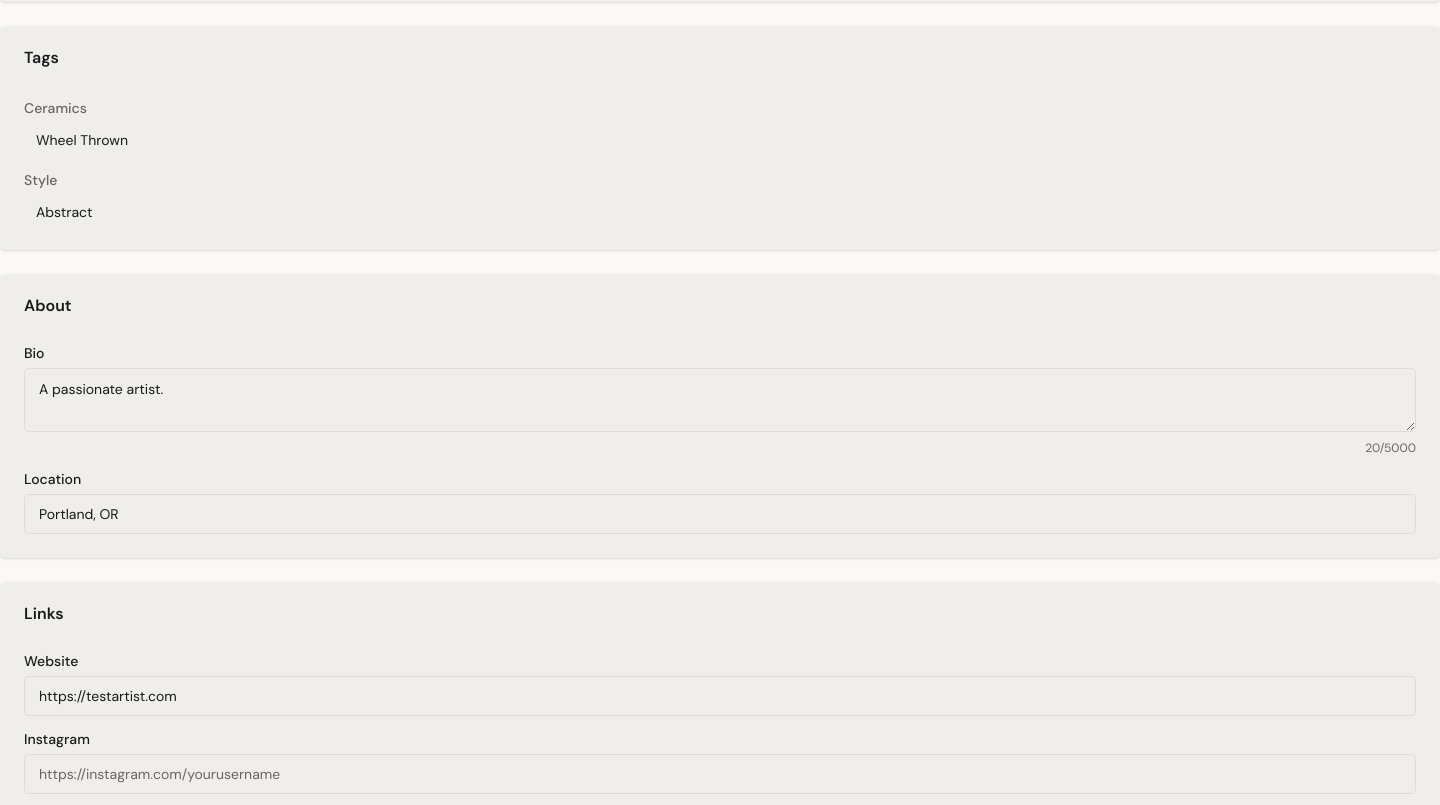
it: ProfileForm › submission › should show error message on API failure
(page scrolled)
Replace the text in the text box with test id "profile-bio" with "Updated bio" at (720, 400), box [24,368,1416,432]
(page scrolled)
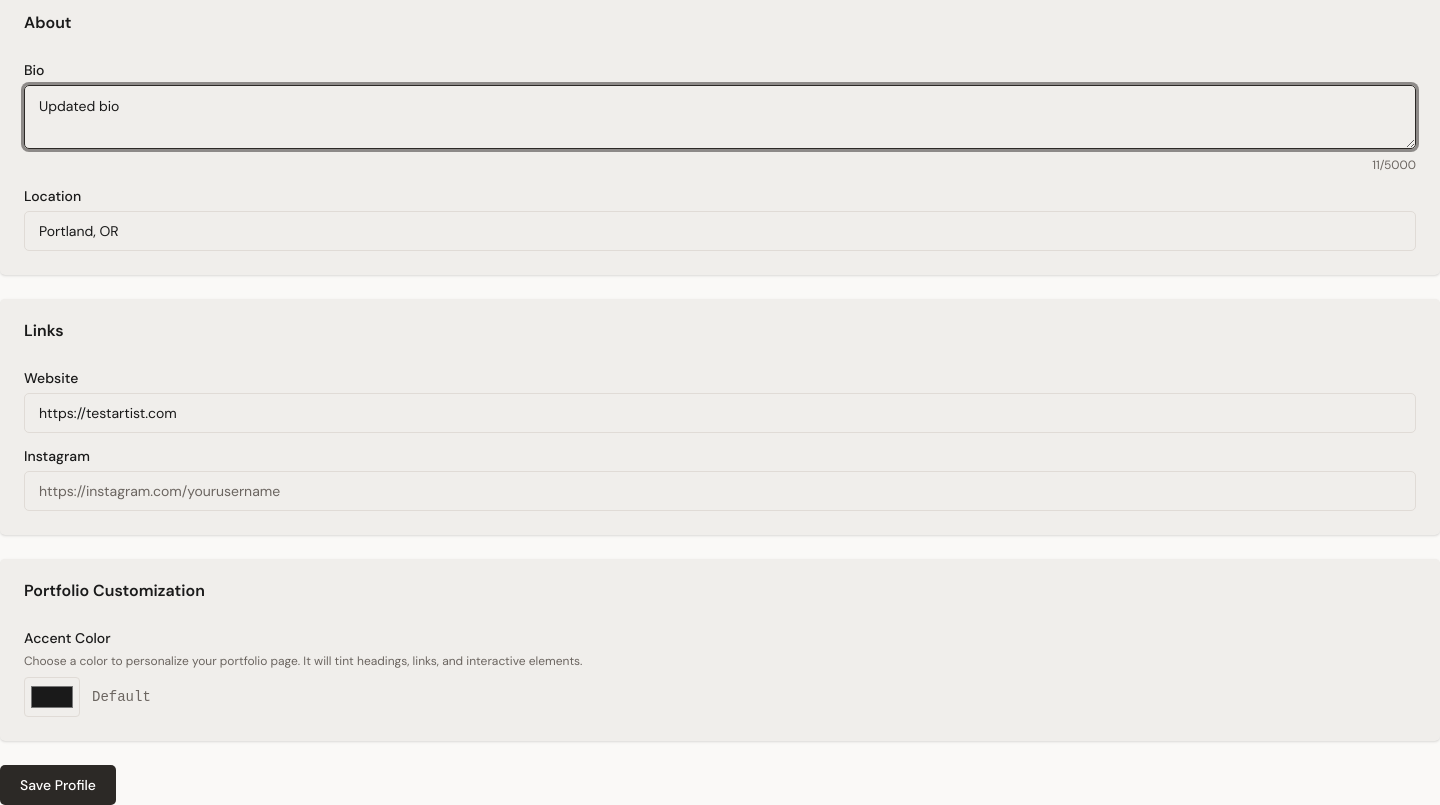
Click the button with test id "profile-save" at (58, 785), box [0,765,116,804]
(page scrolled)
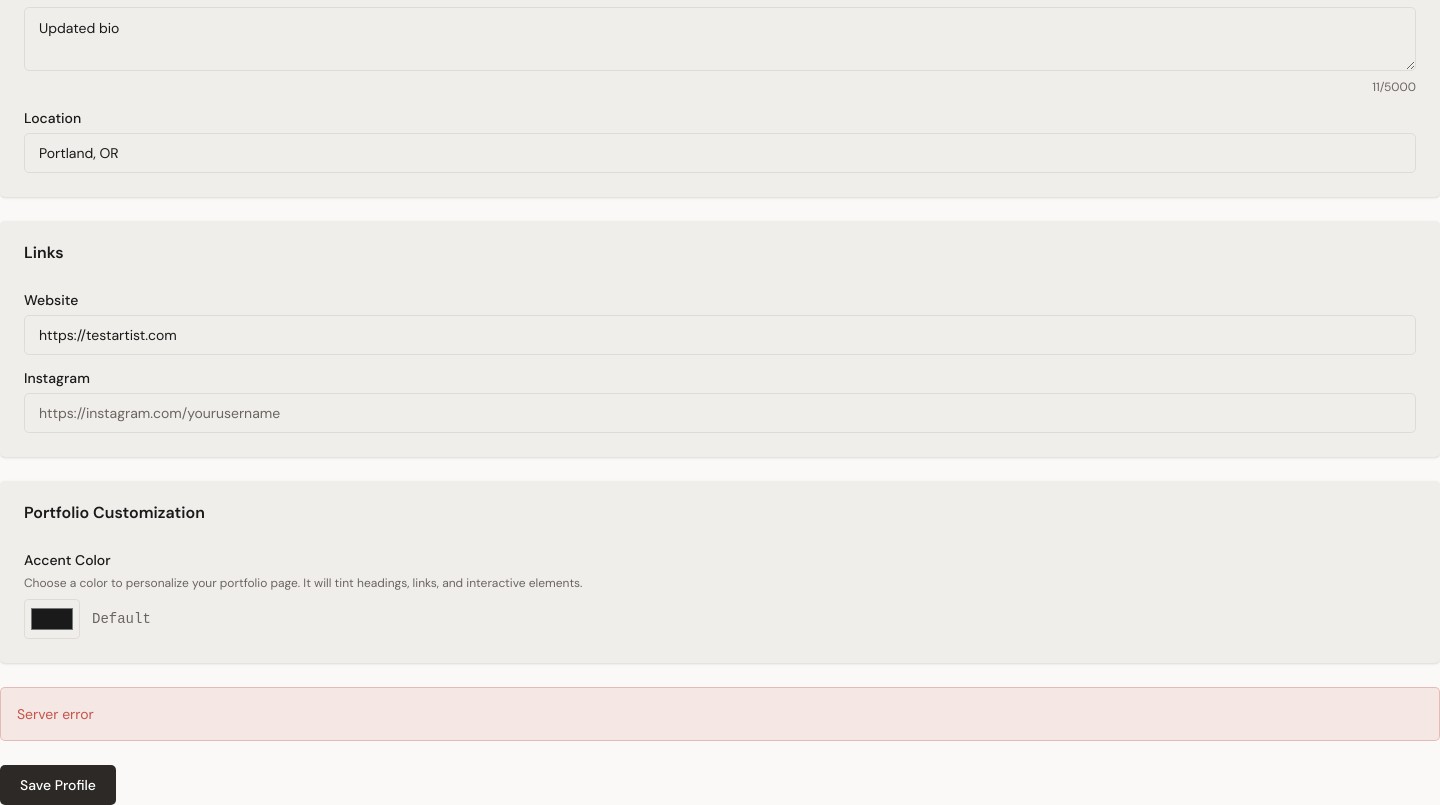
Expected: the message "Server error" is shown, [0,687,1439,741]
